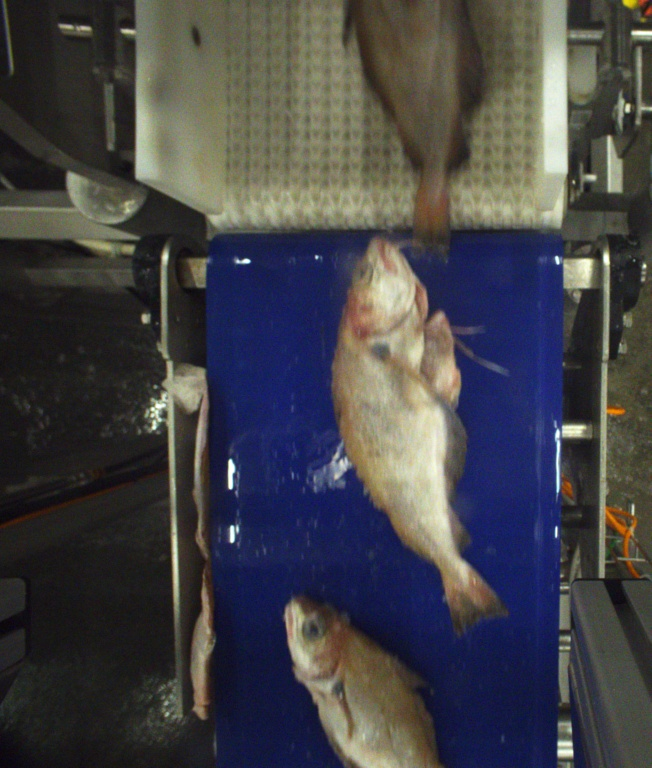BIB: (345, 0, 469, 258)
